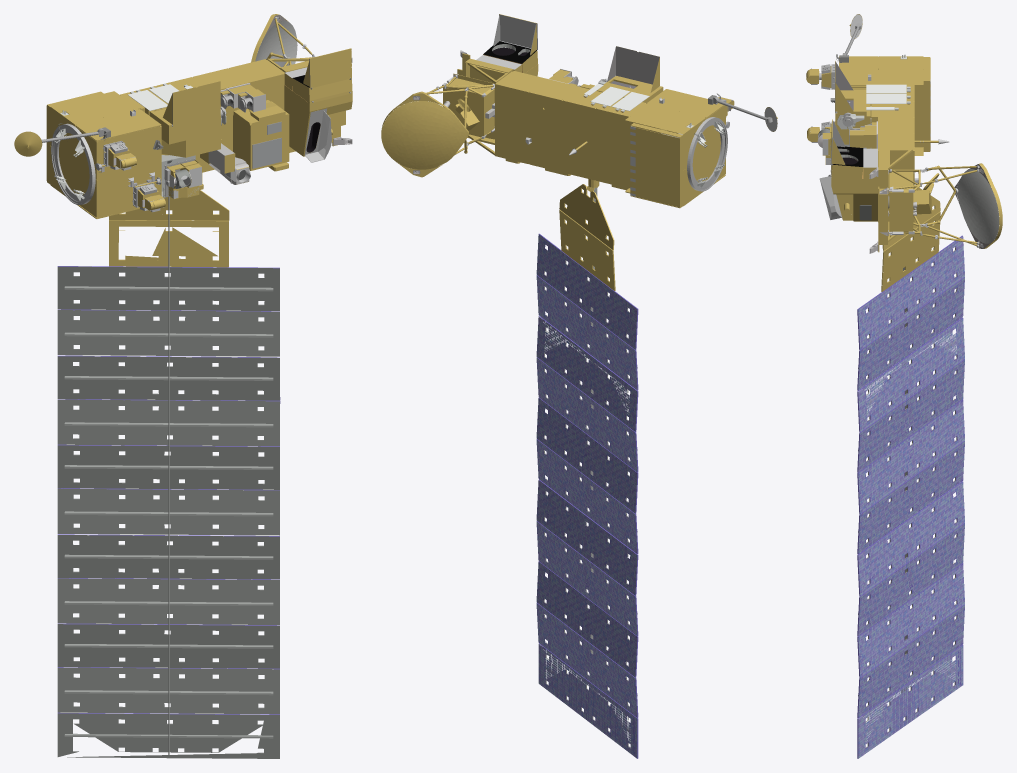
The model's file is aqua-c.glb.
3 renders of one model, left to right at view 1: azimuth 30°, elevation 25°; view 2: azimuth 150°, elevation 25°; view 3: azimuth 270°, elevation 25°, orthographic. The views are drawn at different scales.
Visible parts, largest first — view 1: Layer_0; view 2: Layer_0; view 3: Layer_0.
Boxes of the visible parts, x1,y1,x2,y2 form: Layer_0: (14,14,352,758); Layer_0: (381,14,777,758); Layer_0: (806,14,1002,758).
Bounding box in the file's own units: 9.43 × 17.78 × 4.9.
Materials: 2 (2 with a texture image).
